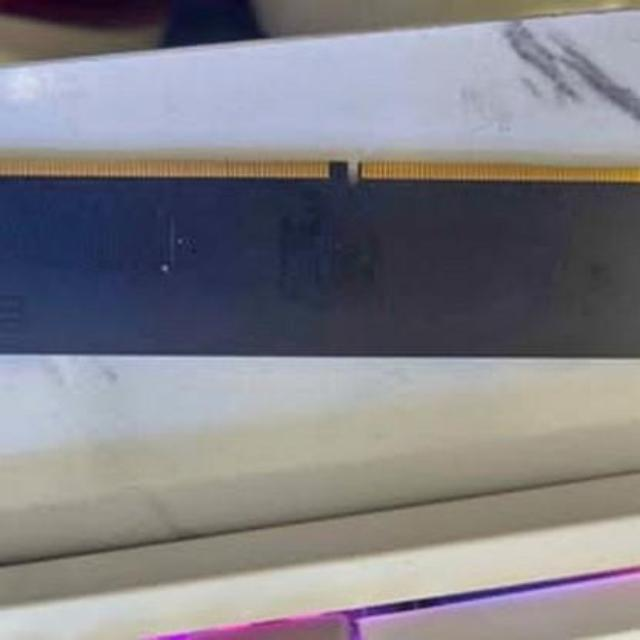RAM: (0, 153, 640, 364)
